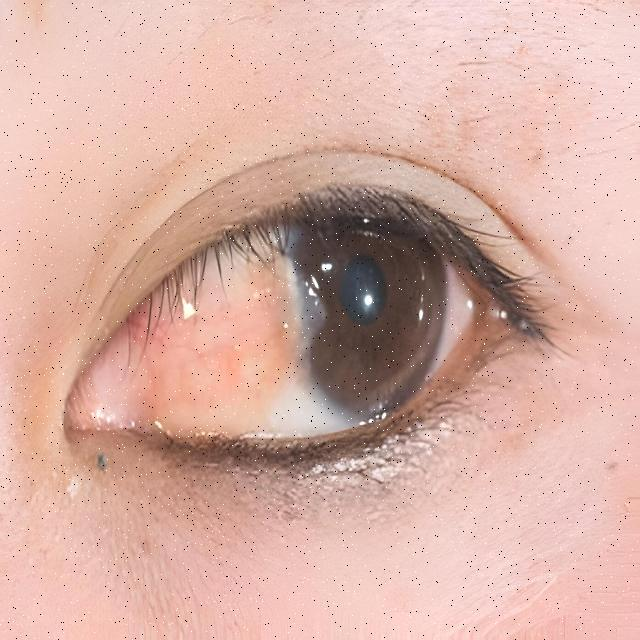Pterygium: (99, 239, 326, 442)
